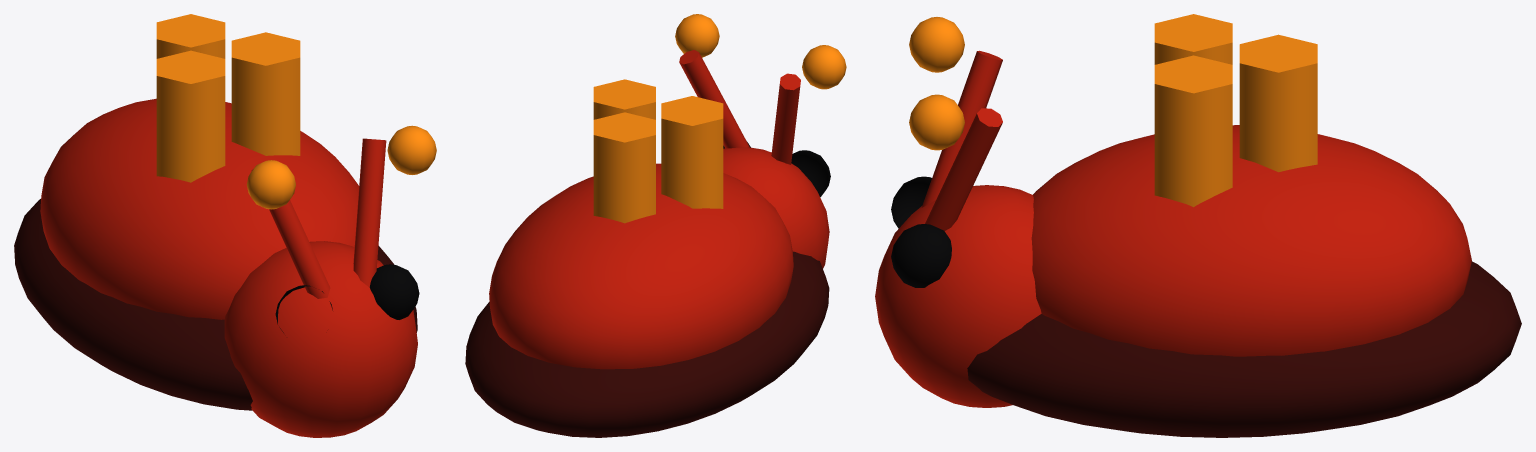
File: chispa.obj
The picture shows the model from 3 angles, left to right: view 1: azimuth 30°, elevation 25°; view 2: azimuth 150°, elevation 25°; view 3: azimuth 270°, elevation 25°; orthographic projection. The views are drawn at different scales.
Bounding box in the file's own units: 0.424 × 0.406 × 0.6858.
